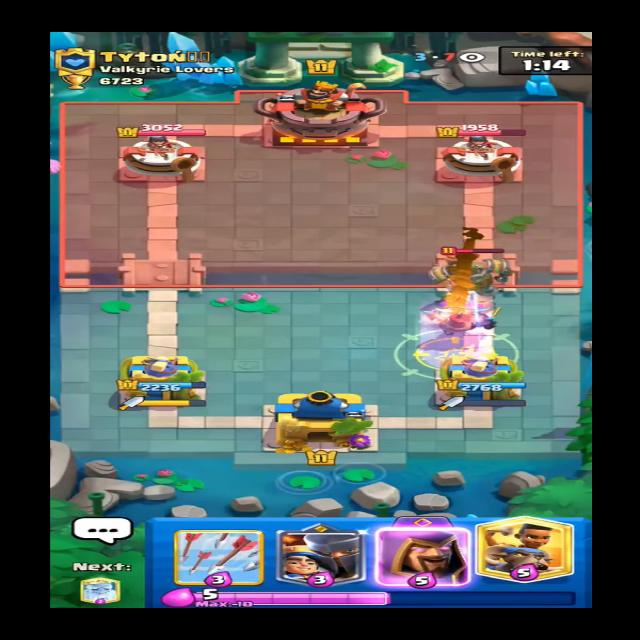goblin-machine: (417, 232, 524, 290)
